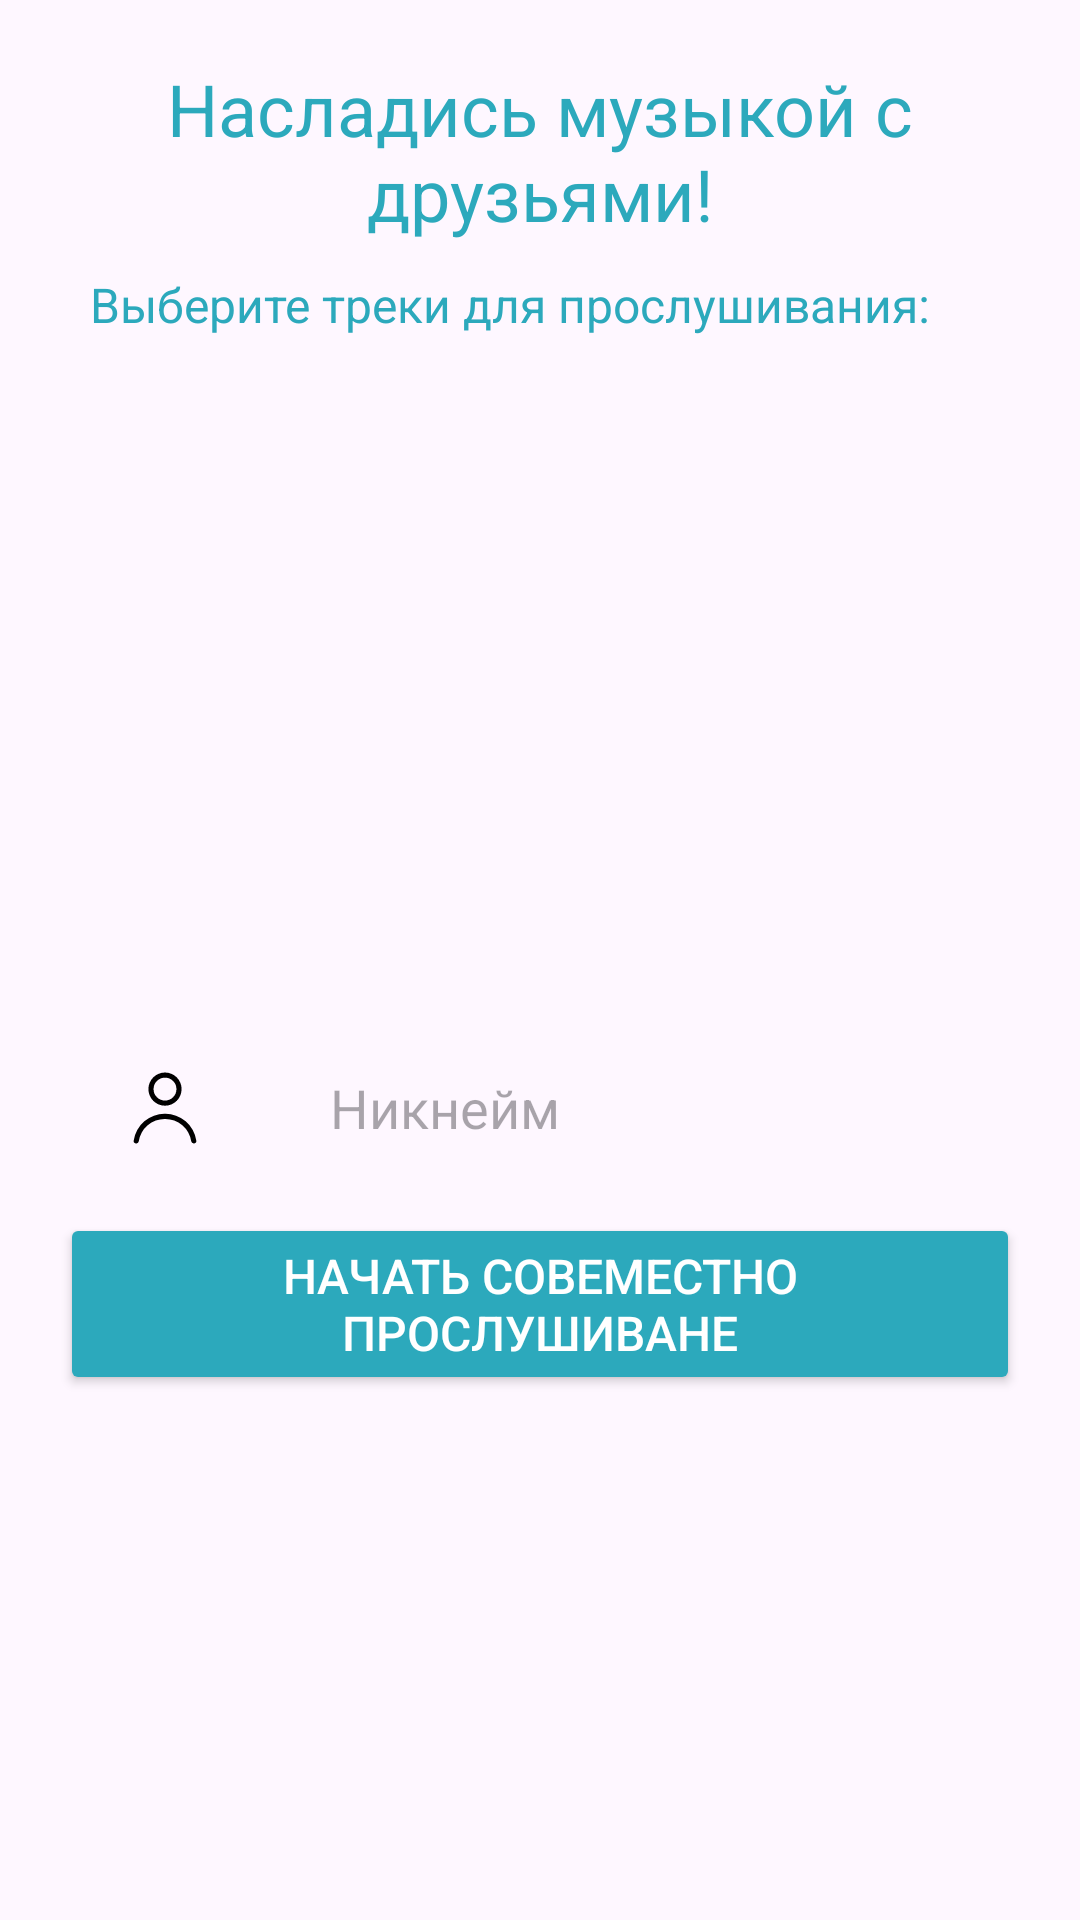

Where icons sit on this 1080px x 1920px app screen, as BBox(x1, y1, x2, y2):
user: BBox(133, 1072, 197, 1144)
